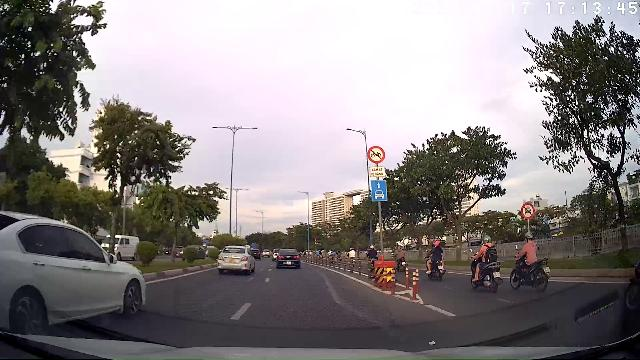103a-cam-oto: (521, 202, 535, 220)
